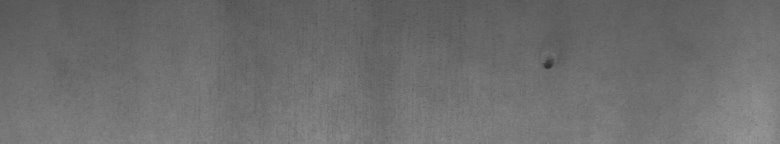fi: (536, 51, 557, 76)
